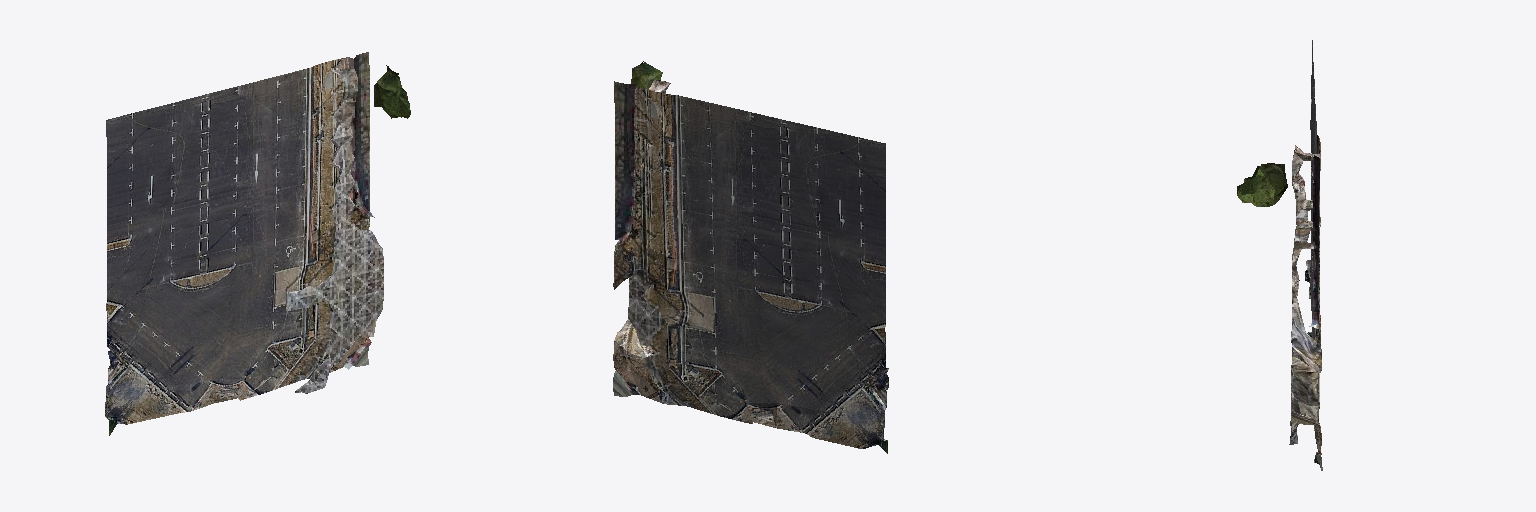
3 views of the same model, side by side, from view 1: azimuth 30°, elevation 25°; view 2: azimuth 150°, elevation 25°; view 3: azimuth 270°, elevation 25° (orthographic).
Parts seen in each view (by area): view 1: obj_0; view 2: obj_0; view 3: obj_0.
Boxes of the visible parts, x1,y1,x2,y2 form: obj_0: [105, 52, 410, 435]; obj_0: [613, 61, 888, 453]; obj_0: [1237, 40, 1322, 470].
Size of the model in its own units: 40.15 by 45.07 by 11.15.
Materials: 1 (1 with a texture image).